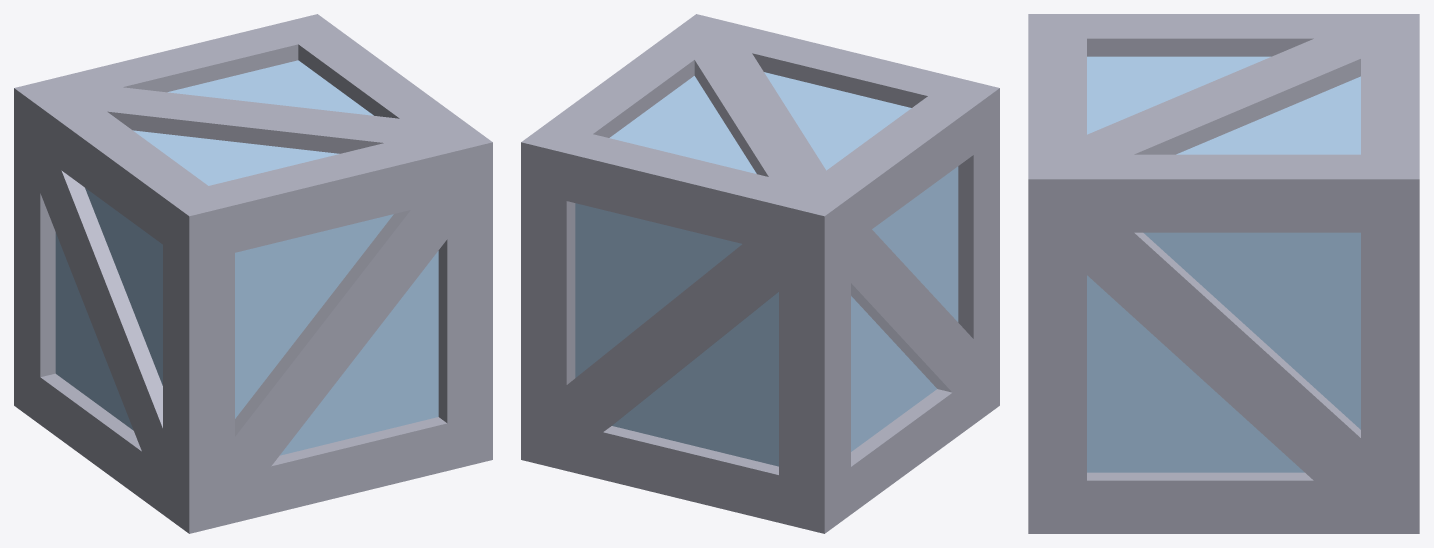
The model's file is cubeBlue.gltf.
3 views of the same model, side by side, from view 1: azimuth 30°, elevation 25°; view 2: azimuth 150°, elevation 25°; view 3: azimuth 270°, elevation 25° (orthographic). The views are drawn at different scales.
Visible parts, largest first — view 1: storageCube_exterior_geo, storageCube_interior_geo; view 2: storageCube_exterior_geo, storageCube_interior_geo; view 3: storageCube_exterior_geo, storageCube_interior_geo.
Boxes of the visible parts, box(x1,y1,x2,y2) form: storageCube_exterior_geo: box(14, 14, 492, 533); storageCube_interior_geo: box(55, 60, 438, 455); storageCube_exterior_geo: box(521, 14, 999, 533); storageCube_interior_geo: box(575, 72, 958, 466); storageCube_exterior_geo: box(1028, 14, 1419, 533); storageCube_interior_geo: box(1087, 56, 1360, 472).
Size of the model in its own units: 2 by 2 by 2.
